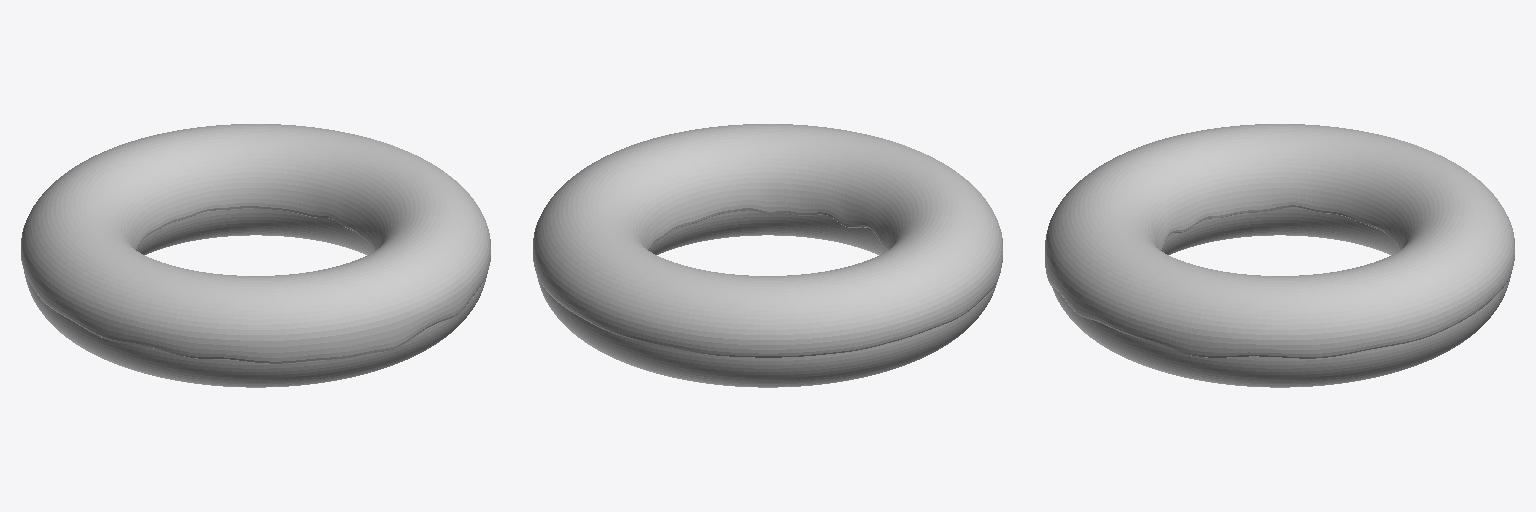
Rendered from donut.obj.
3 renders of one model, left to right at view 1: azimuth 30°, elevation 25°; view 2: azimuth 150°, elevation 25°; view 3: azimuth 270°, elevation 25°, orthographic.
Visible parts, largest first — view 1: bunny; view 2: bunny; view 3: bunny.
Part boxes in pixels (x1,y1,x2,y2): bunny: (21,124,490,387); bunny: (533,124,1002,387); bunny: (1045,124,1514,387).
Bounding box in the file's own units: 2.6 × 0.6166 × 2.6.